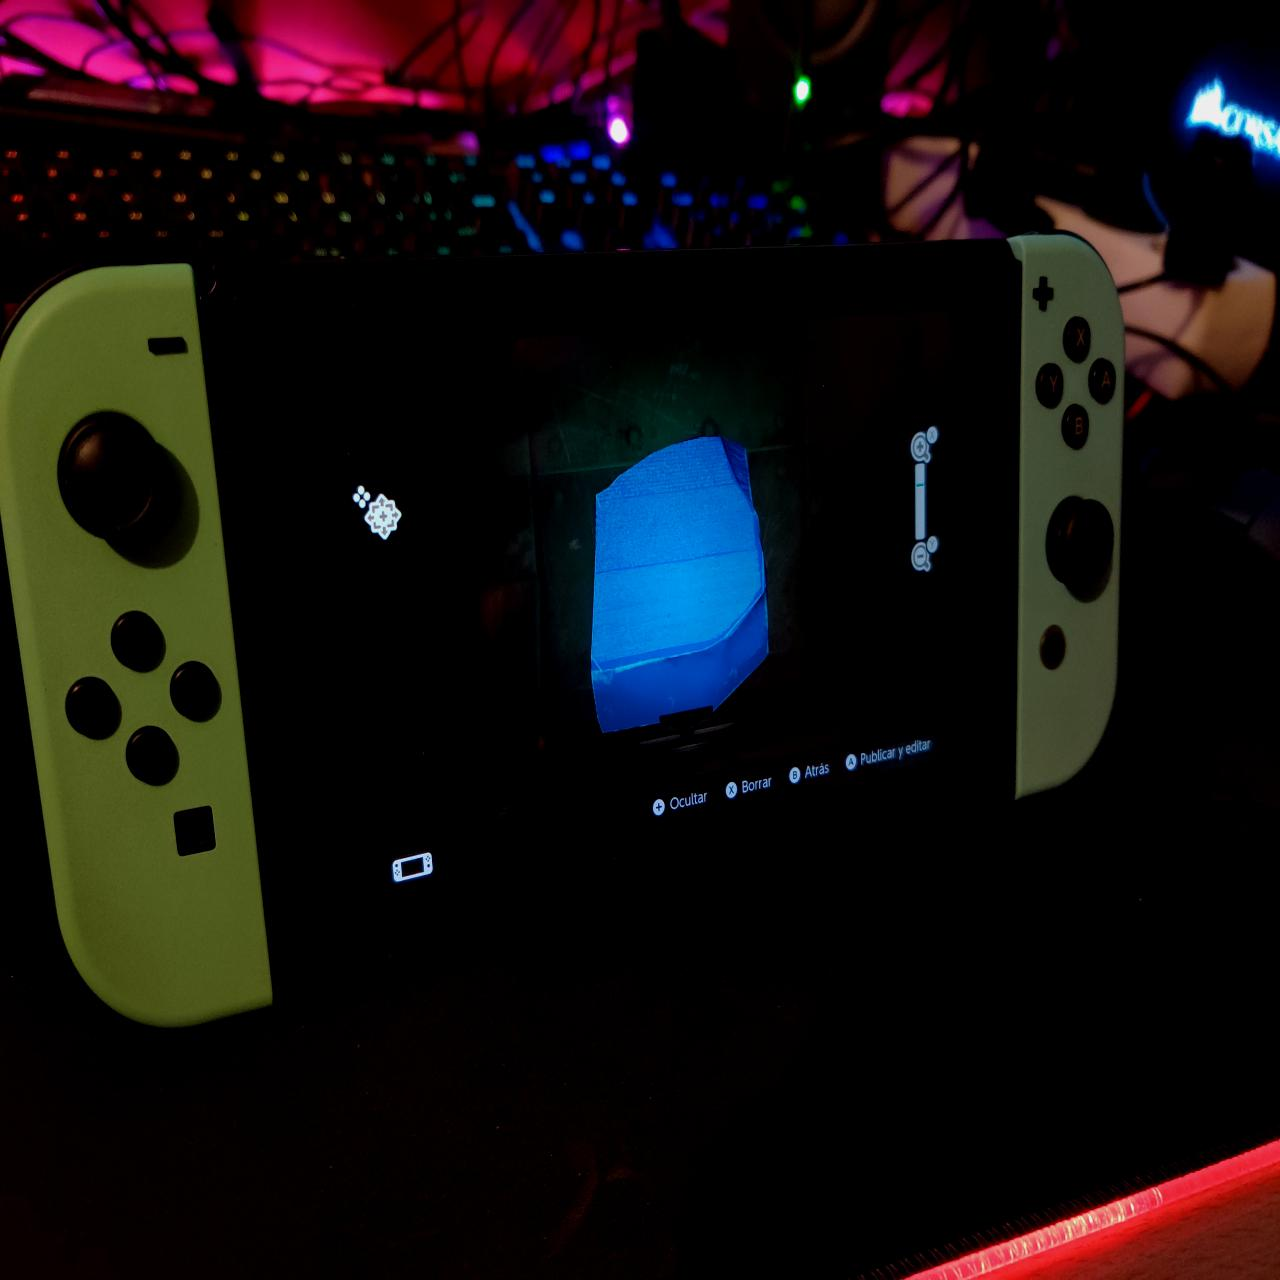RosettaStoneFake: (588, 425, 772, 738)
